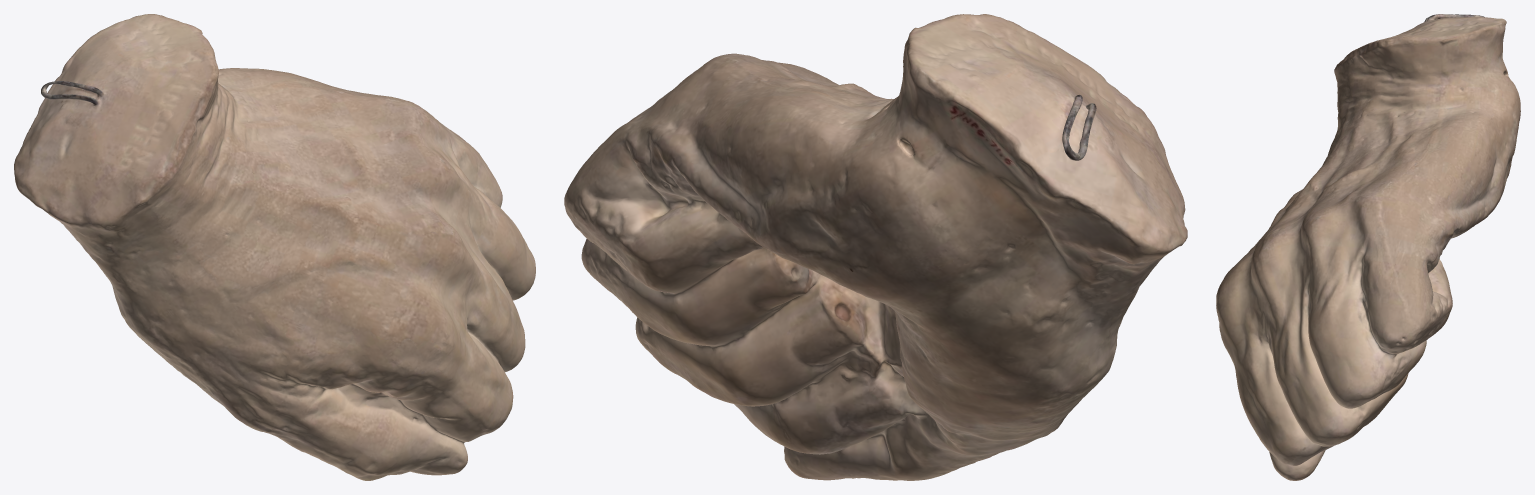
Rendered from npg_71_6_left-hires_unwrapped-150k-1024-low.glb.
3 renders of one model, left to right at view 1: azimuth 30°, elevation 25°; view 2: azimuth 150°, elevation 25°; view 3: azimuth 270°, elevation 25°, orthographic. The views are drawn at different scales.
Bounding box in the file's own units: 164 × 143 × 106.
Materials: 1 (1 with a texture image).
